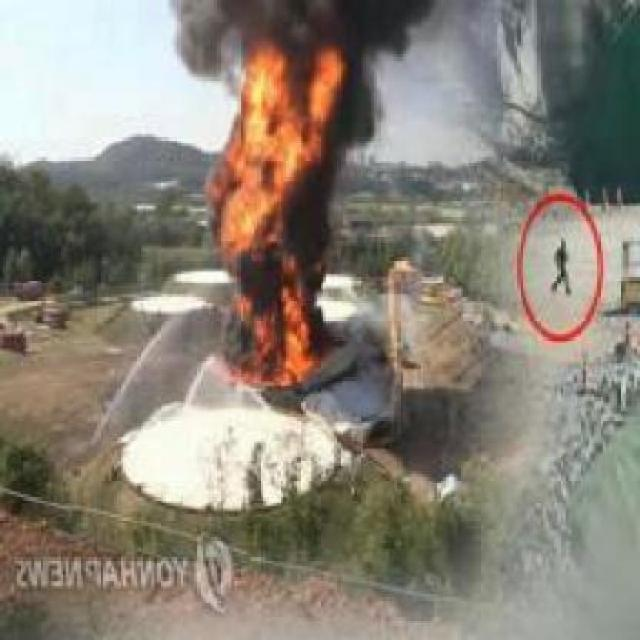Fire: (210, 49, 344, 247), (240, 262, 316, 389)
Smoke: (172, 0, 427, 48), (348, 52, 388, 144), (181, 49, 212, 80)
